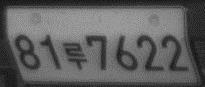1: (40, 34, 62, 71)
2: (161, 34, 190, 73), (136, 33, 164, 73)
6: (114, 34, 140, 72)
7: (85, 34, 107, 73)
8: (13, 34, 41, 69)
루: (61, 40, 88, 70)
